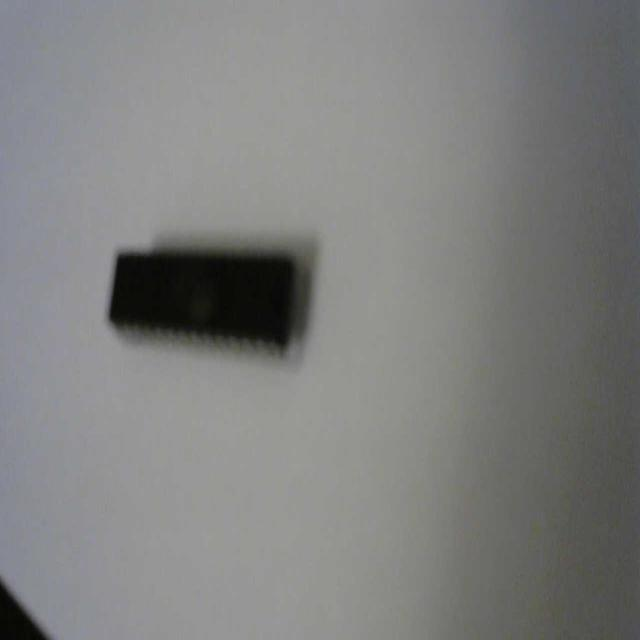atmega: (104, 232, 312, 364)
